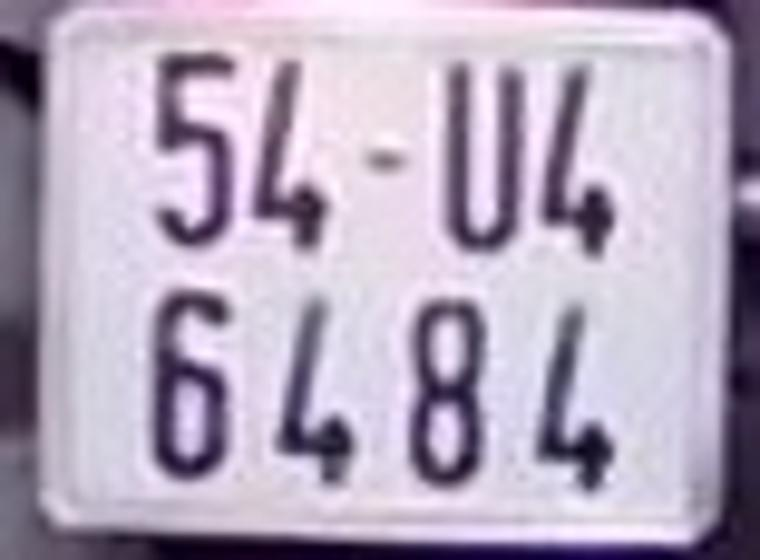-: (357, 140, 415, 180)
4: (526, 296, 626, 493), (270, 291, 366, 487), (251, 51, 336, 258), (541, 58, 621, 261)
5: (143, 50, 244, 254)
6: (144, 286, 244, 479)
8: (404, 289, 494, 489)
U: (433, 51, 535, 257)
